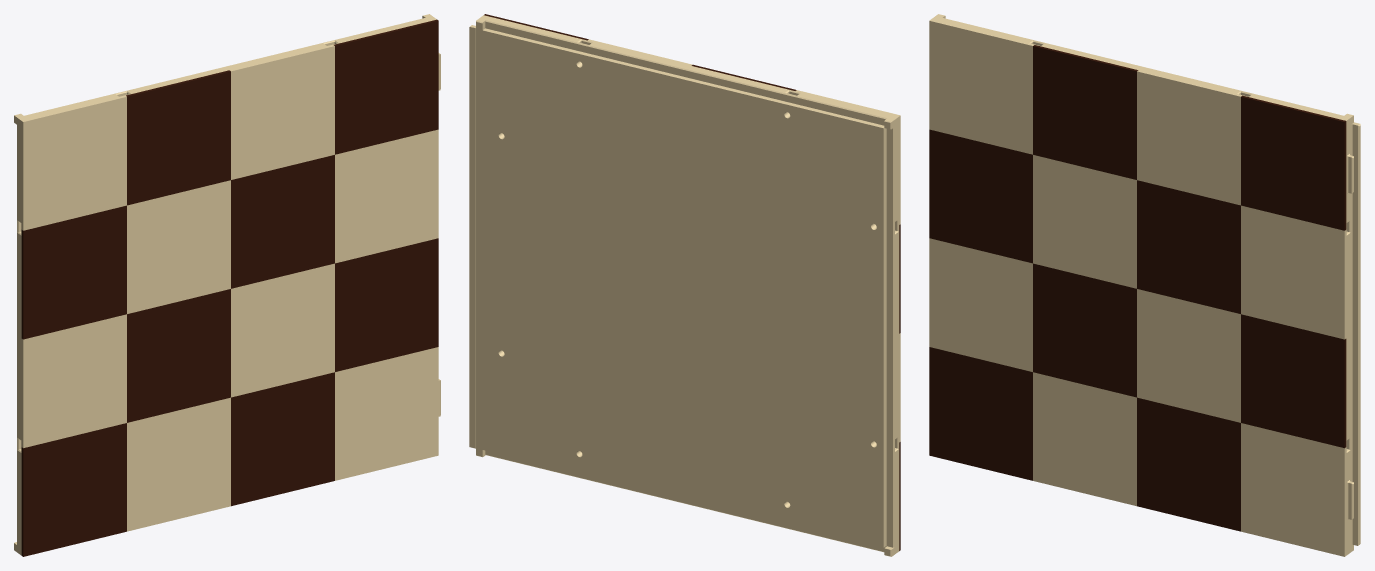
The model's file is .quarter_nw.step.glb.
3 renders of one model, left to right at view 1: azimuth 30°, elevation 25°; view 2: azimuth 150°, elevation 25°; view 3: azimuth 330°, elevation 25°, orthographic.
Parts seen in each view (by area): view 1: o1.1, o1.2.1, o1.2.2, o1.2.8, o1.2.4, o1.2.5, o1.2.3, o1.2.7, o1.2.6; view 2: o1.1; view 3: o1.1, o1.2.8, o1.2.7, o1.2.4, o1.2.2, o1.2.3, o1.2.6, o1.2.1, o1.2.5.
Boxes of the visible parts, x1,y1,x2,y2 form: o1.1: (14, 14, 440, 555); o1.2.1: (21, 423, 126, 556); o1.2.2: (21, 205, 126, 339); o1.2.8: (334, 19, 438, 154); o1.2.4: (126, 70, 230, 205); o1.2.5: (231, 372, 334, 506); o1.2.3: (127, 289, 230, 422); o1.2.7: (335, 238, 438, 371); o1.2.6: (231, 155, 334, 288); o1.1: (469, 15, 900, 556); o1.1: (929, 14, 1360, 556); o1.2.8: (1241, 95, 1346, 230); o1.2.7: (1241, 314, 1346, 448); o1.2.4: (1033, 45, 1138, 179); o1.2.2: (929, 129, 1032, 263); o1.2.3: (1033, 263, 1136, 397); o1.2.6: (1137, 180, 1240, 313); o1.2.1: (929, 347, 1032, 480); o1.2.5: (1137, 397, 1240, 531).
Bounding box in the file's own units: 0.244 × 0.24 × 0.0096.
